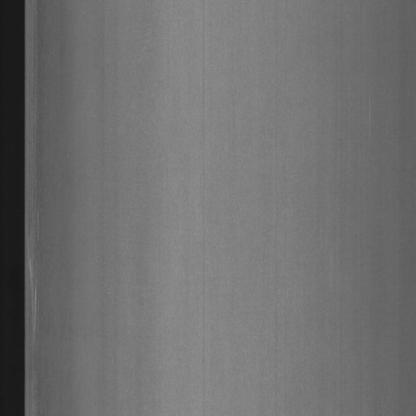silk_spot: (28, 212, 56, 357)
